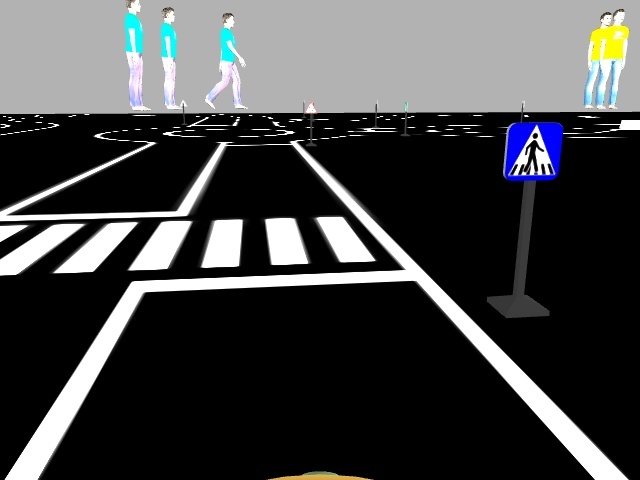Crosswalk: (502, 121, 563, 181)
